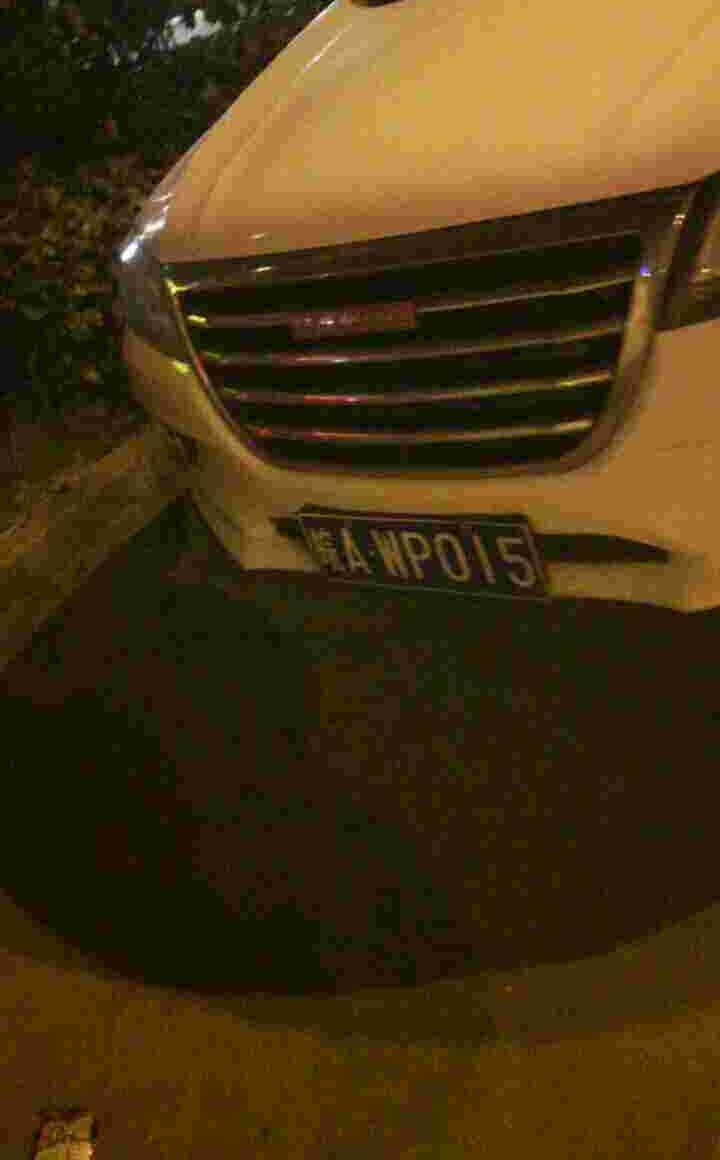plate: (286, 508, 557, 603)
